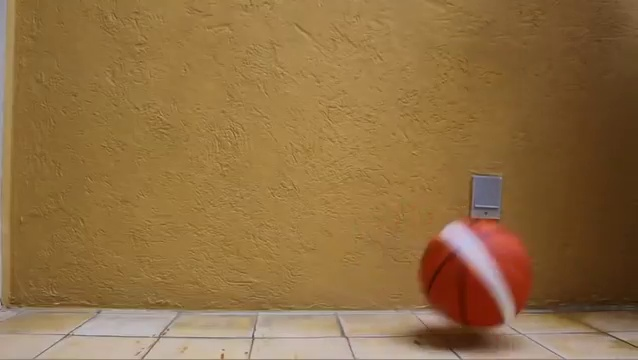ball: (419, 218, 537, 328)
